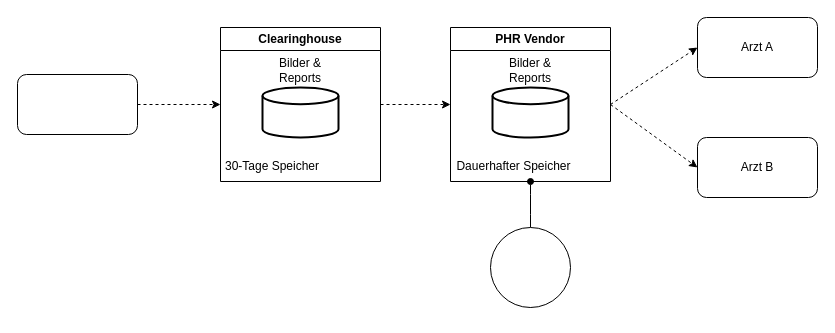
This 835x333 diagram has some shape labels left out. The centre of each missing label's shape, as x and y in pixels:
"Patient" goes at pixel 530 267.
"Radiologie-Zentrum" goes at pixel 77 104.
